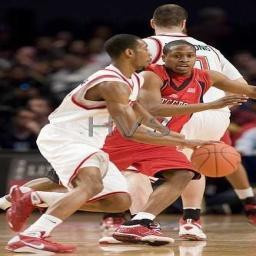ball: (192, 143, 241, 178)
human: (4, 32, 226, 256), (101, 38, 256, 240), (142, 2, 250, 240)
